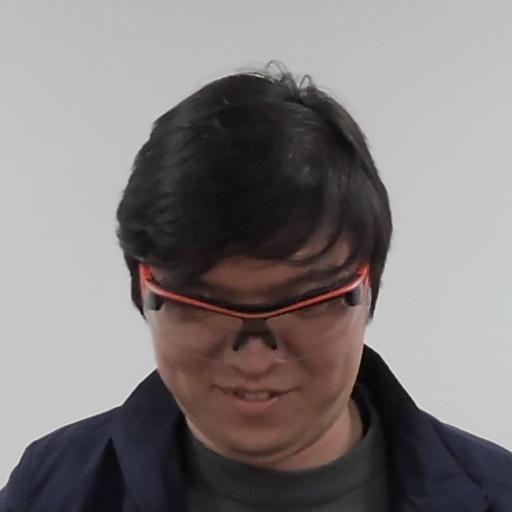glasses: (100, 71, 403, 456)
